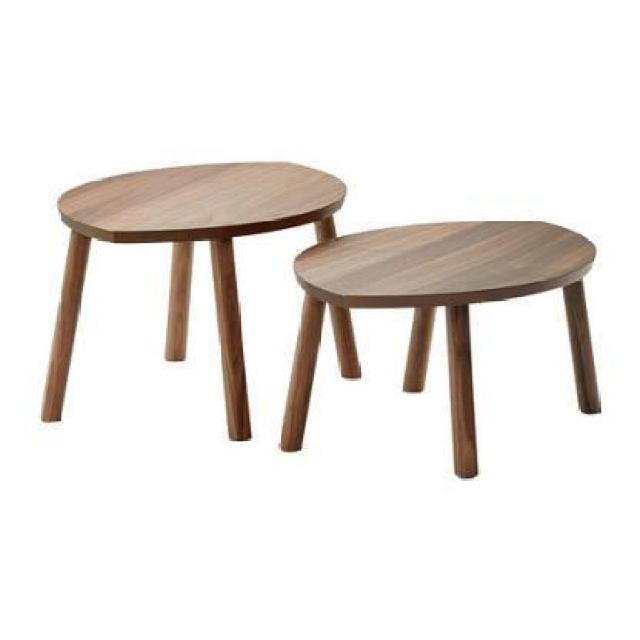tables: (38, 158, 354, 442), (278, 217, 602, 478)
